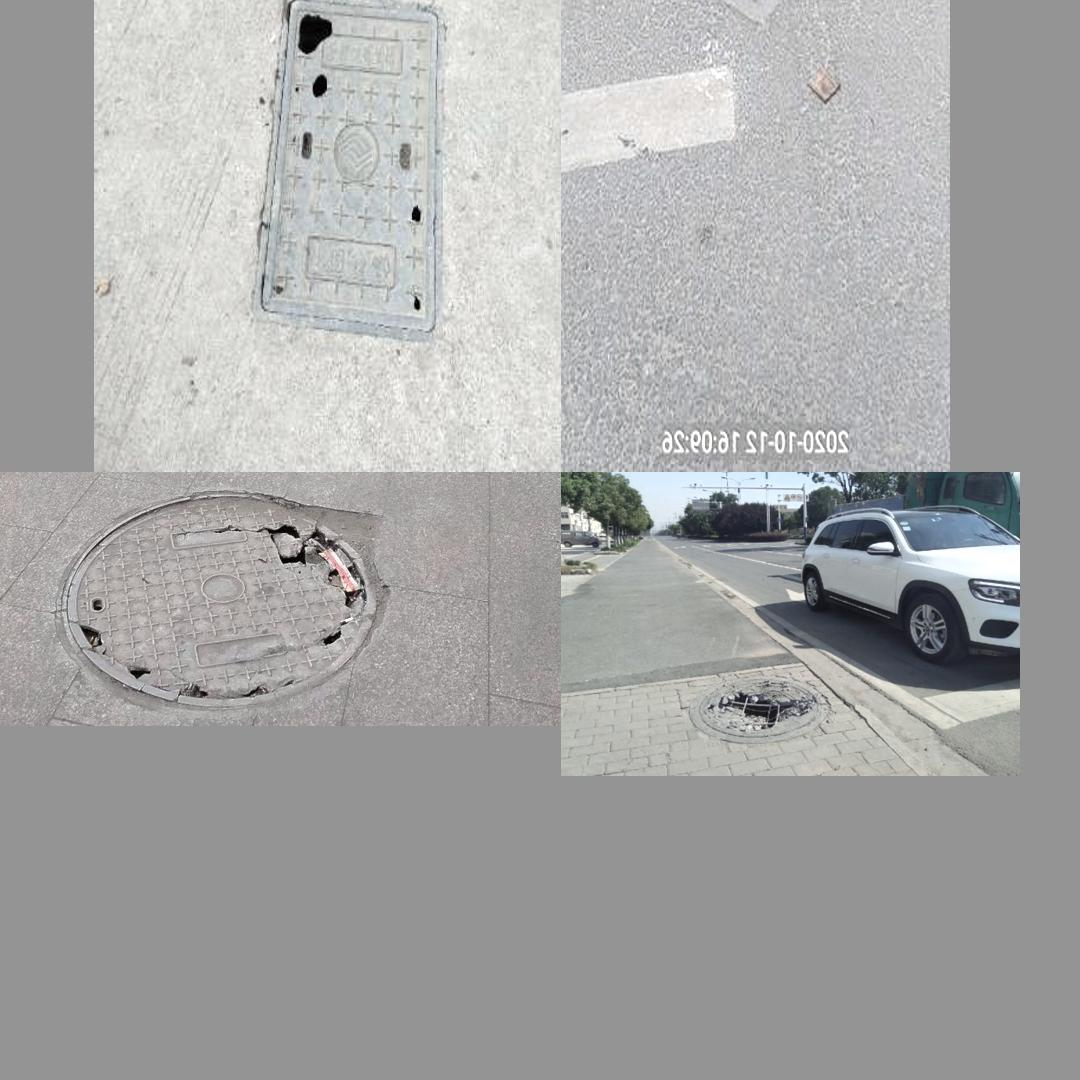broke: (61, 492, 380, 708), (254, 0, 446, 317), (563, 0, 922, 28), (689, 675, 829, 743)
